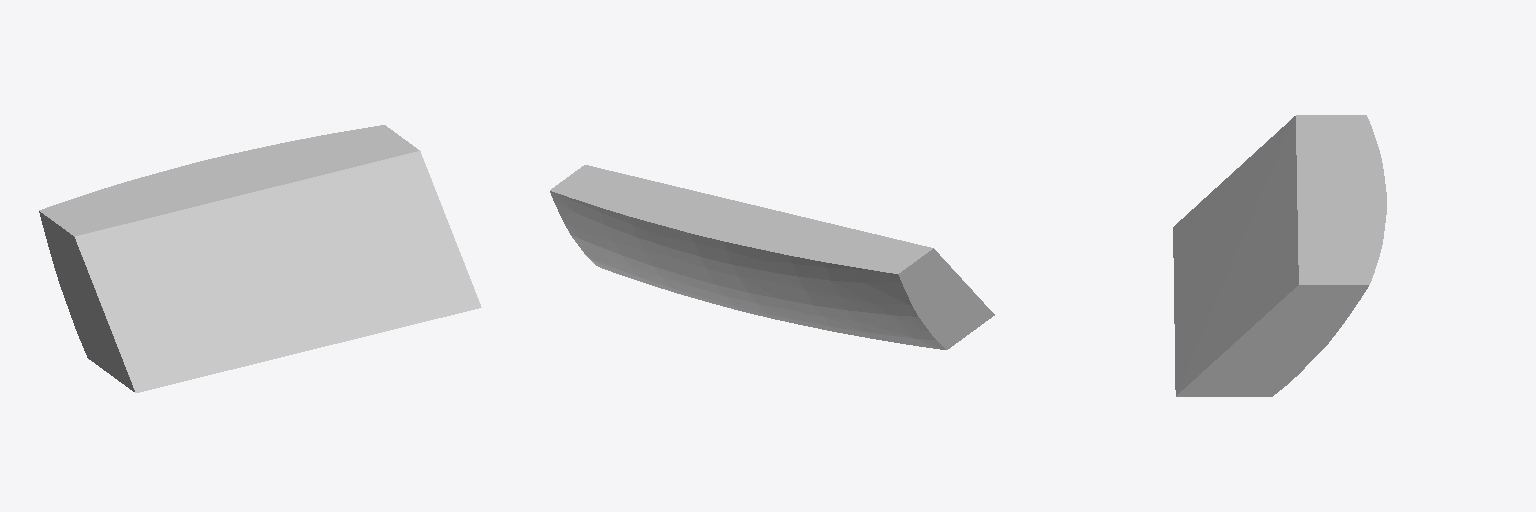
Rendered from pan_collision_7.obj.
3 views of the same model, side by side, from view 1: azimuth 30°, elevation 25°; view 2: azimuth 150°, elevation 25°; view 3: azimuth 270°, elevation 25° (orthographic).
Bounding box in the file's own units: 0.0447 × 0.0138 × 0.0238.